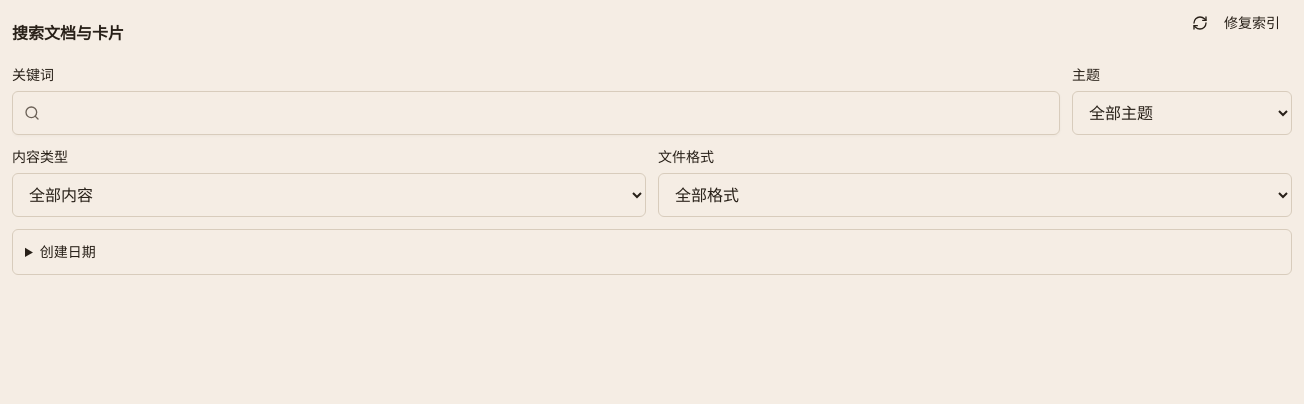
Test: knowledge search filters › clears file format for cards and reports an invalid date range
Select "PDF" in the dropdown labelled "文件格式" at point(975, 195), box [658,173,1292,217]
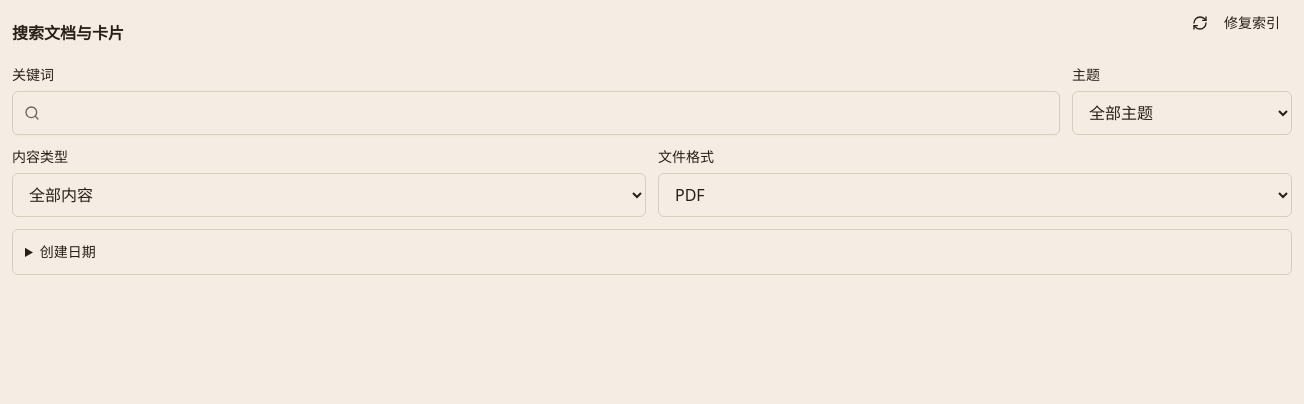
Select "知识卡片" in the dropdown labelled "内容类型" at point(329, 195), box [12,173,646,217]
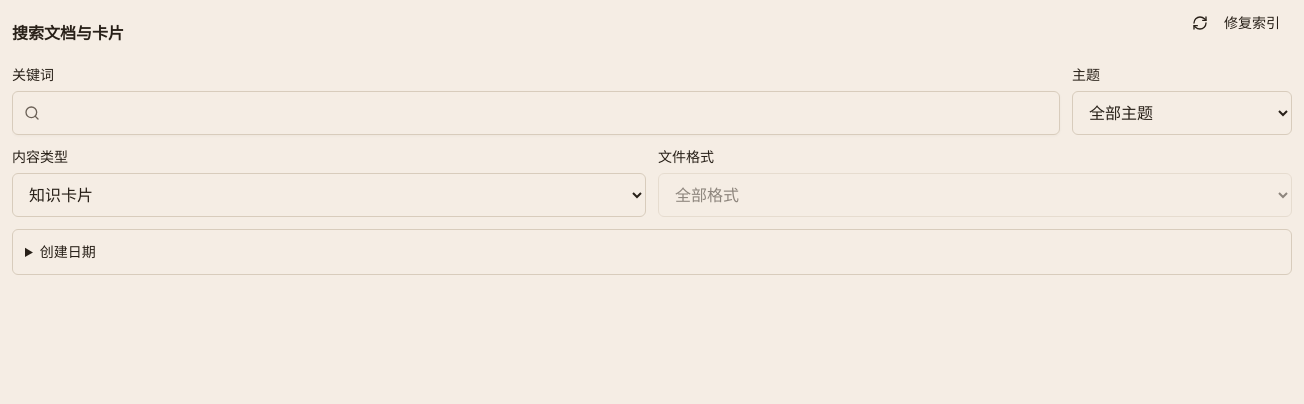
Result: the dropdown labelled "文件格式" is disabled at [658,173,1292,217]
Click the heading "创建日期" at point(68, 252), box [25,238,1279,266]
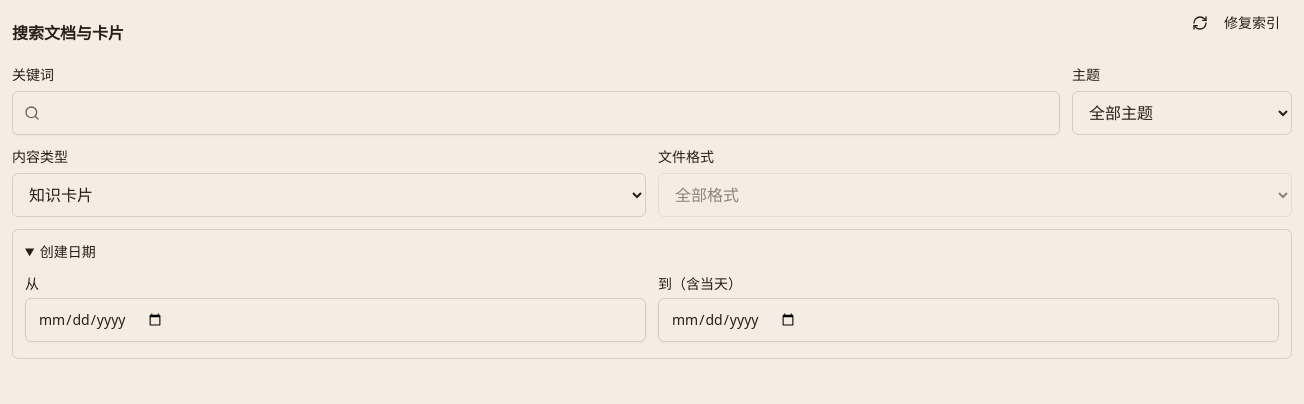
Type "2026-10-01" into the date field labelled "从" at point(336, 320), box [25,298,646,342]
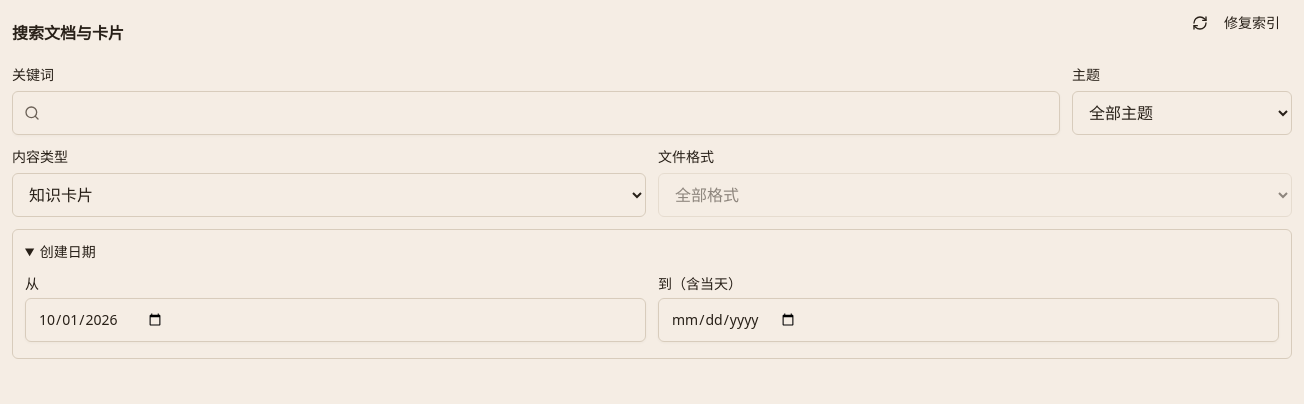
Type "2026-09-29" into the date field labelled "到（含当天）" at point(968, 320), box [658,298,1279,342]
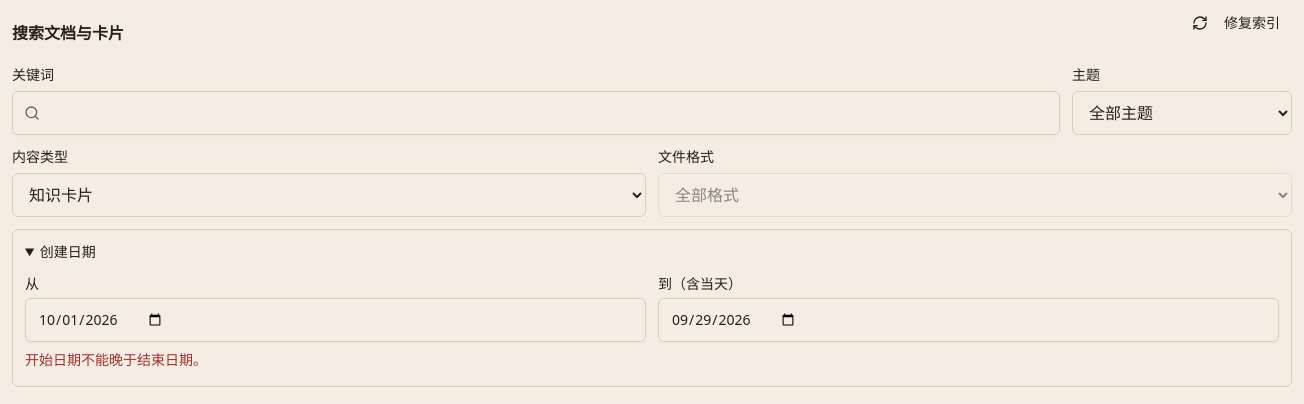
Result: the message shows "开始日期不能晚于结束日期" at [25,350,207,369]
